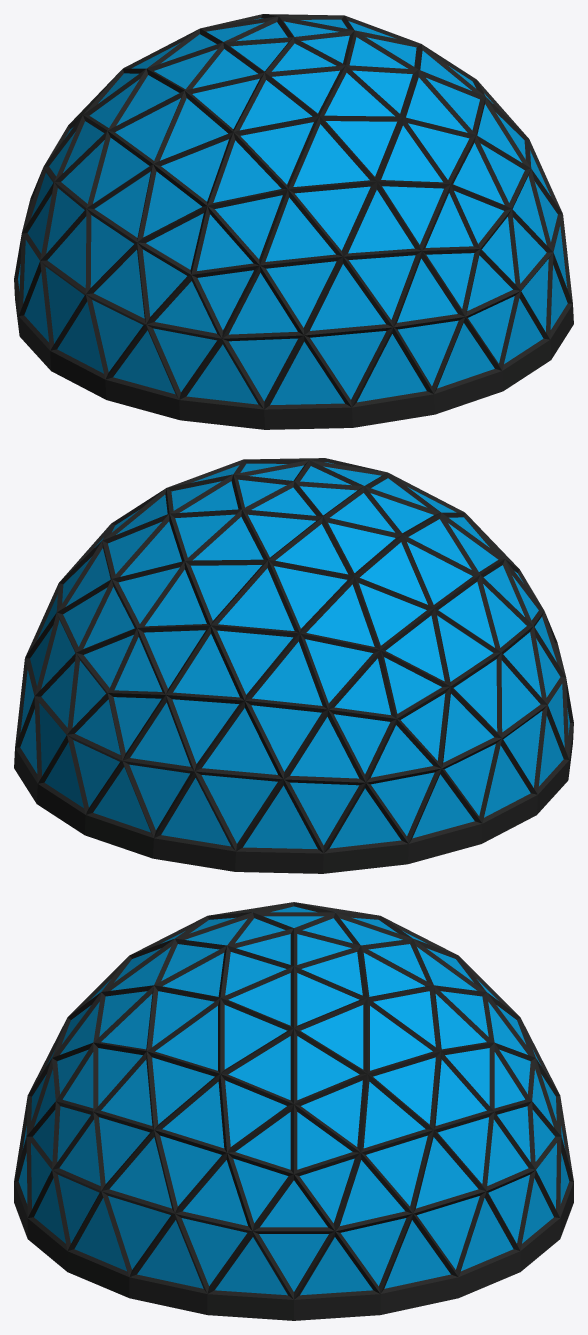
The model's file is DomeV2.fbx.
3 views of the same model, one above another, from view 1: azimuth 30°, elevation 25°; view 2: azimuth 150°, elevation 25°; view 3: azimuth 270°, elevation 25° (orthographic).
Visible parts, largest first — view 1: Grid; view 2: Grid; view 3: Grid.
Boxes of the visible parts, box(x1,y1,x2,y2) form: Grid: box(14, 14, 573, 429); Grid: box(14, 458, 573, 873); Grid: box(14, 902, 573, 1320).
Size of the model in its own units: 247 by 134 by 247.
